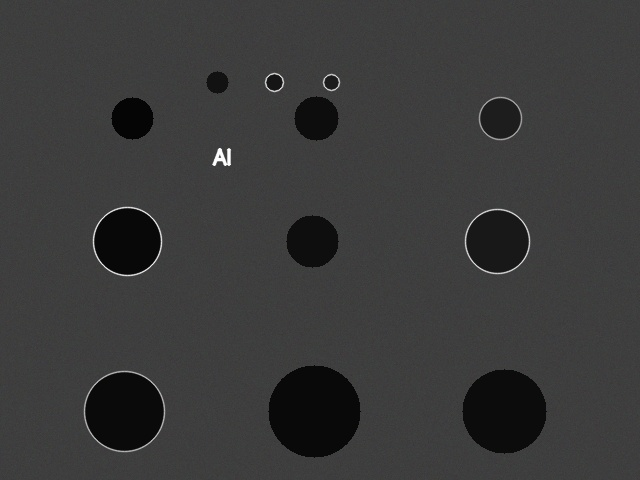hole: (268, 365, 360, 457), (462, 369, 546, 453), (84, 371, 164, 451), (93, 207, 161, 275), (465, 209, 529, 273), (286, 215, 338, 267), (294, 96, 338, 140), (111, 97, 153, 139), (479, 97, 521, 139), (206, 71, 228, 93), (265, 73, 283, 91), (323, 74, 339, 90)
